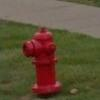Hydrant: (15, 21, 65, 97)
